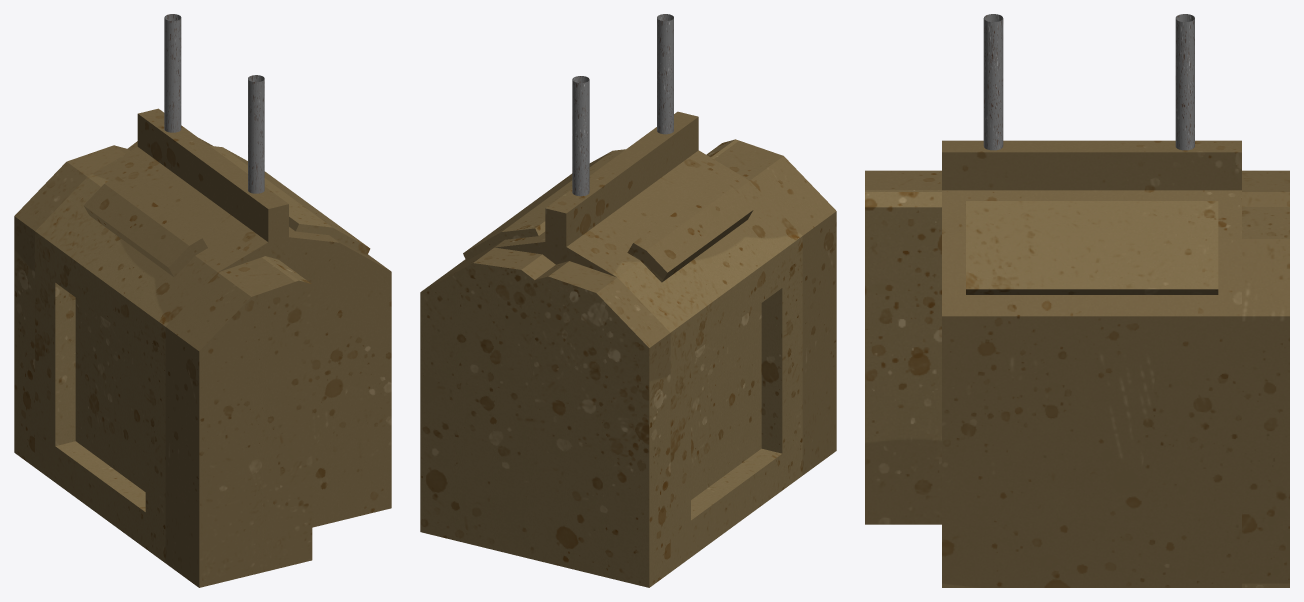
File: SovietMachine.fbx
3 views of the same model, side by side, from view 1: azimuth 30°, elevation 25°; view 2: azimuth 150°, elevation 25°; view 3: azimuth 270°, elevation 25° (orthographic). The views are drawn at different scales.
Parts seen in each view (by area): view 1: Cube, Cylinder.001, Cylinder; view 2: Cube, Cylinder.001, Cylinder; view 3: Cube, Cylinder, Cylinder.001.
Part boxes in pixels (x1,y1,x2,y2): Cube: (14, 108, 391, 587); Cylinder.001: (164, 14, 181, 132); Cylinder: (248, 75, 264, 193); Cube: (420, 111, 836, 587); Cylinder.001: (572, 76, 589, 196); Cylinder: (657, 14, 673, 134); Cube: (865, 140, 1289, 587); Cylinder: (983, 14, 1003, 150); Cylinder.001: (1175, 14, 1194, 150).
Size of the model in its own units: 200 by 373 by 283.
